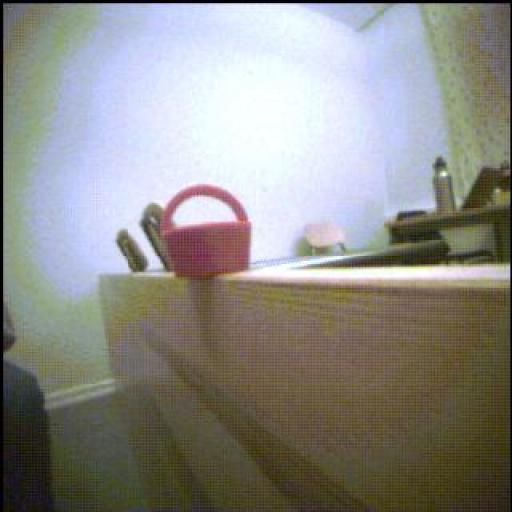Bucket: (161, 185, 252, 279)
